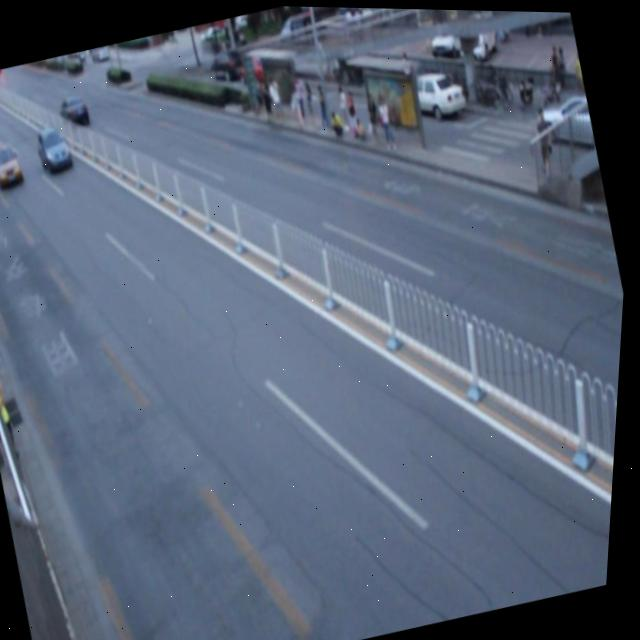car: (32, 121, 78, 176), (55, 88, 96, 135), (0, 137, 31, 193)
